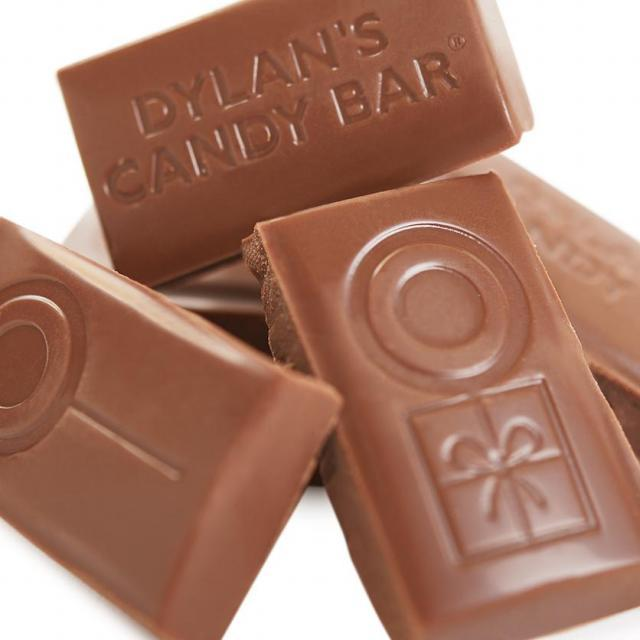Chocolate bar packaged: (239, 170, 640, 640), (0, 216, 342, 640), (53, 3, 543, 290)
